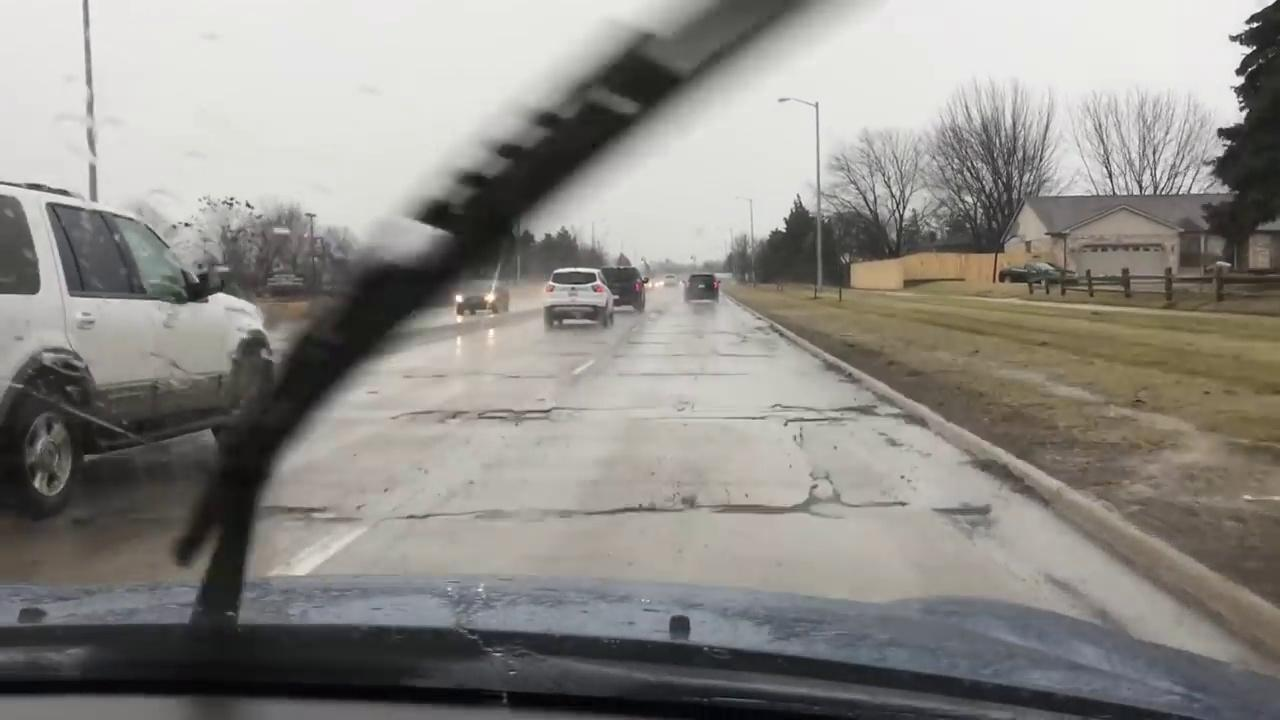pothole: (391, 406, 564, 421)
